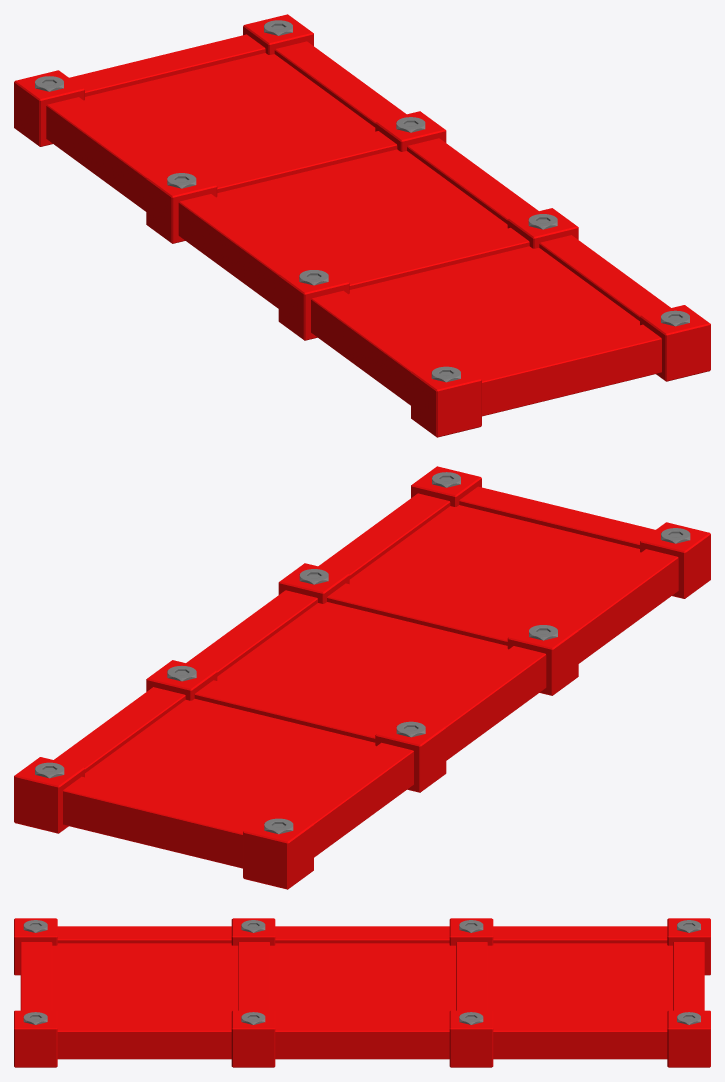
Rendered from FramedSquareTripleRed.fbx.
3 renders of one model, top to bottom at view 1: azimuth 30°, elevation 25°; view 2: azimuth 150°, elevation 25°; view 3: azimuth 270°, elevation 25°, orthographic. The views are drawn at different scales.
Parts seen in each view (by area): view 1: Cube, Cube.001; view 2: Cube, Cube.001; view 3: Cube, Cube.001.
Part boxes in pixels (x1,y1,x2,y2): Cube: (14,14,710,437); Cube.001: (35,20,689,382); Cube: (14,466,710,889); Cube.001: (35,472,690,834); Cube: (14,918,710,1067); Cube.001: (23,920,700,1024).
Size of the model in its own units: 6 by 1.05 by 16.
